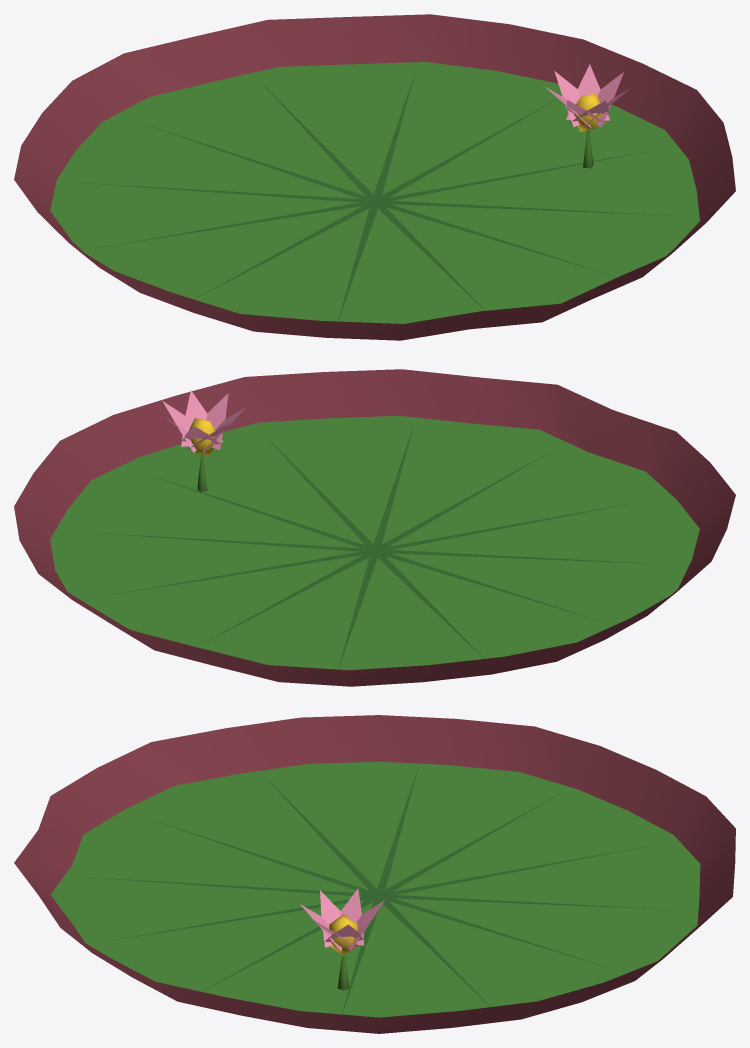
File: lily-giant-b.glb
3 views of the same model, one above another, from view 1: azimuth 30°, elevation 25°; view 2: azimuth 150°, elevation 25°; view 3: azimuth 270°, elevation 25° (orthographic).
Visible parts, largest first — view 1: lily-giant-b; view 2: lily-giant-b; view 3: lily-giant-b.
Boxes of the visible parts, x1,y1,x2,y2 form: lily-giant-b: (14, 14, 735, 340); lily-giant-b: (14, 369, 735, 686); lily-giant-b: (14, 715, 735, 1033).
Size of the model in its own units: 0.9192 by 0.12 by 0.927.
